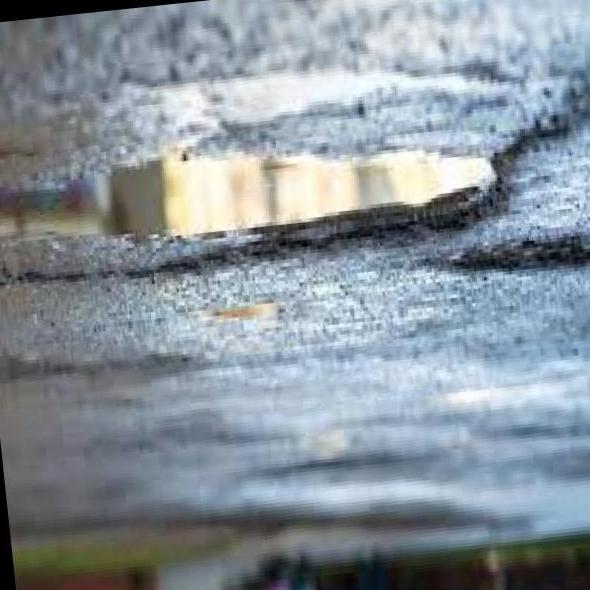pothole: (0, 127, 522, 283)
